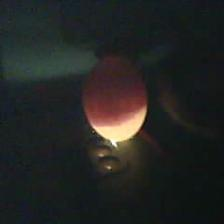fertile: (80, 54, 151, 144)
